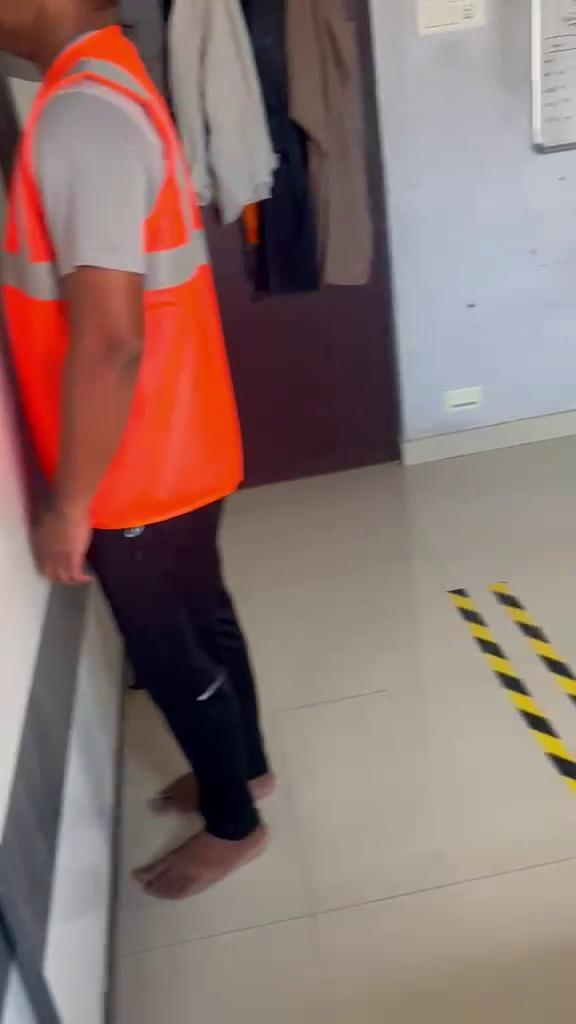BorderLine: (443, 579, 576, 796)
Person: (0, 0, 276, 902)
Vest: (0, 24, 245, 529)
